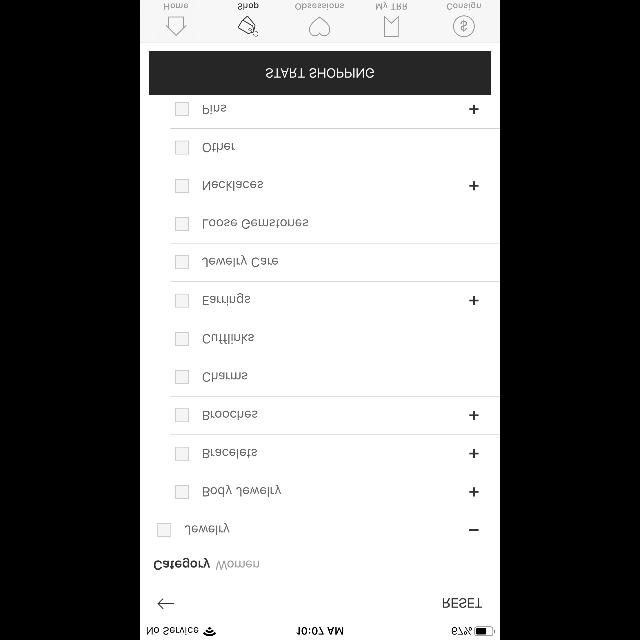checkbox: (175, 179, 189, 193), (175, 332, 189, 346), (176, 102, 188, 116), (176, 217, 188, 231), (176, 255, 188, 269), (176, 294, 188, 308), (176, 408, 188, 422), (157, 524, 170, 536), (176, 371, 188, 384), (176, 142, 188, 154), (176, 448, 188, 460), (176, 486, 188, 498)
icon: (166, 16, 187, 36), (454, 16, 474, 36), (310, 16, 330, 36), (238, 16, 258, 36), (384, 16, 398, 38), (158, 598, 174, 608), (469, 296, 478, 306), (469, 410, 478, 420), (469, 448, 478, 458), (469, 105, 478, 114), (469, 488, 478, 497), (469, 182, 478, 190), (469, 529, 478, 531)
text: (203, 485, 281, 497), (204, 255, 278, 267), (204, 220, 308, 228), (154, 558, 210, 570), (203, 181, 263, 191), (203, 293, 250, 305), (204, 410, 258, 420), (203, 448, 257, 458), (186, 523, 230, 535), (202, 334, 254, 344), (202, 372, 248, 382), (217, 560, 260, 570), (442, 598, 482, 608), (202, 143, 235, 153), (296, 4, 344, 10), (447, 2, 481, 10), (376, 2, 406, 10), (204, 104, 226, 114), (238, 2, 258, 10), (164, 4, 188, 10)
textbutton: (149, 52, 491, 94)
uppertaskbar: (140, 626, 500, 640)
